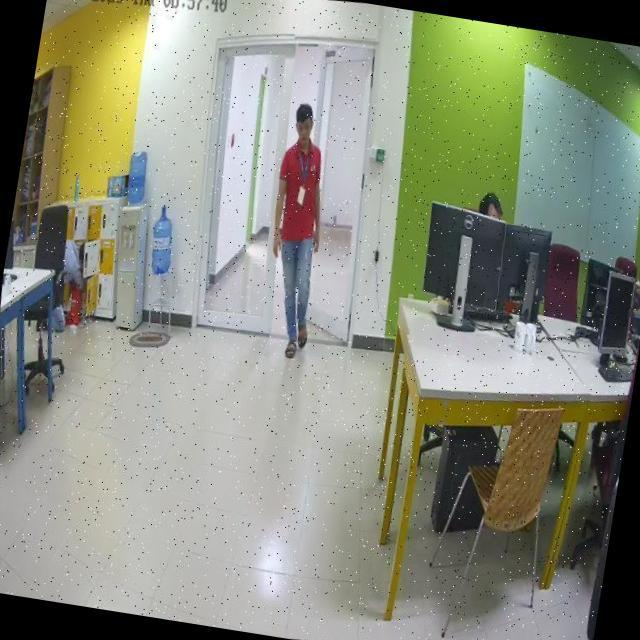person: (246, 101, 347, 362)
